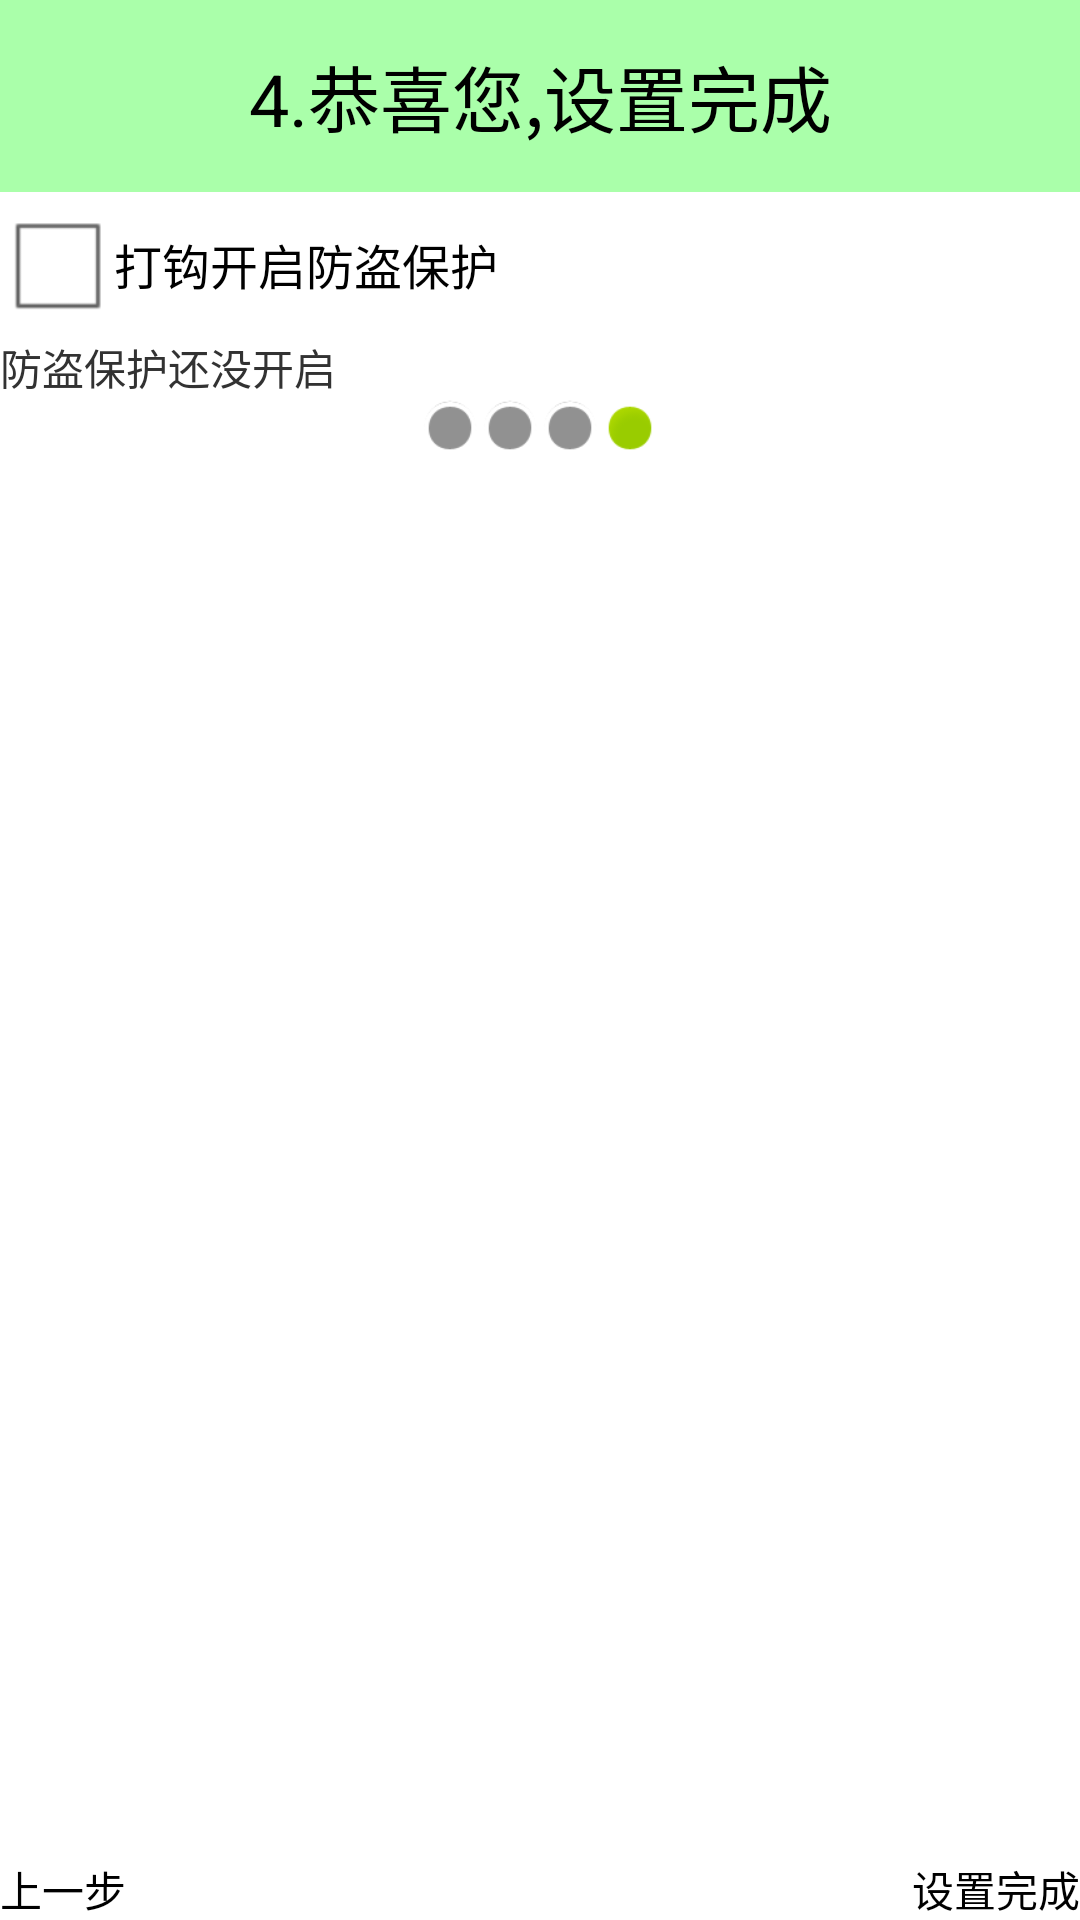

Point at icon controls on the screen. Image size 1080px x 1920px, points as (x,y).
presence invisible: (450,426), (510,426), (570,426)
presence online: (630,428)
